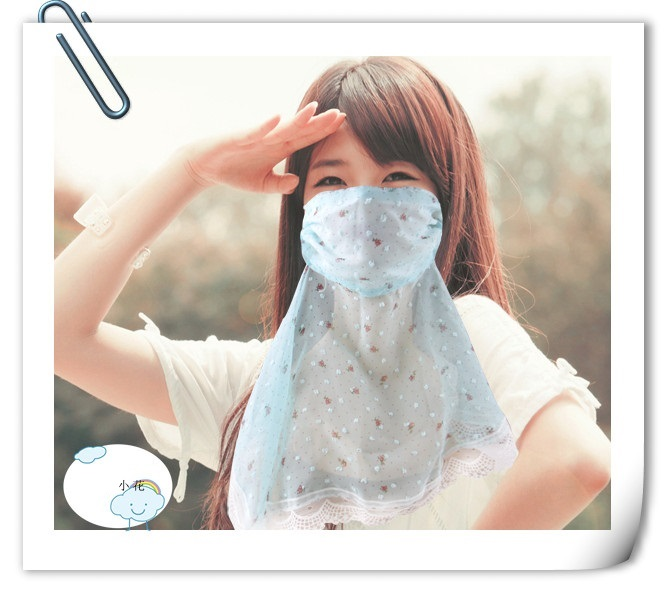face_mask: (300, 116, 439, 289)
